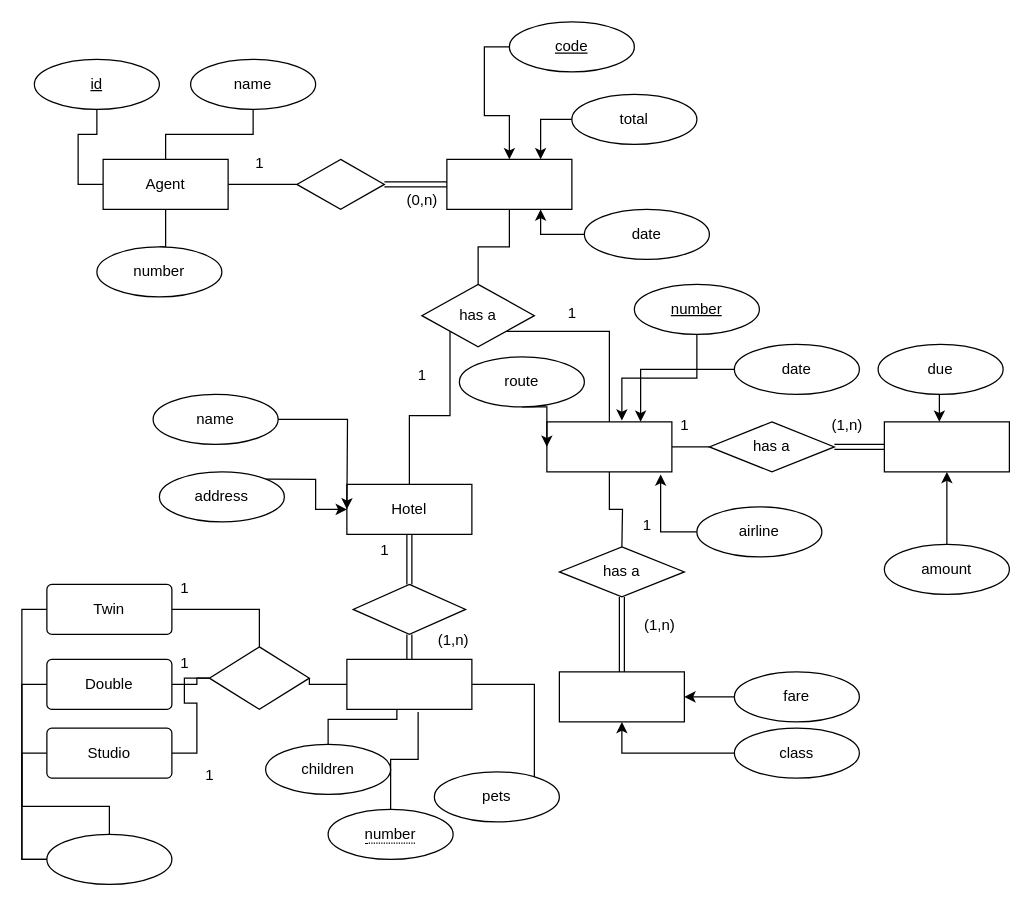
Image size: 1031x906. Some labels were removed from this diagram. Here are the shapes that lost their labels. From the top down, the centre of each, then its label:
point 340,183: places
point 509,183: Reservation
point 609,446: Flight
point 946,446: payment
point 409,608: has
point 258,677: is a
point 409,683: Room
point 621,696: seat
point 109,858: price
